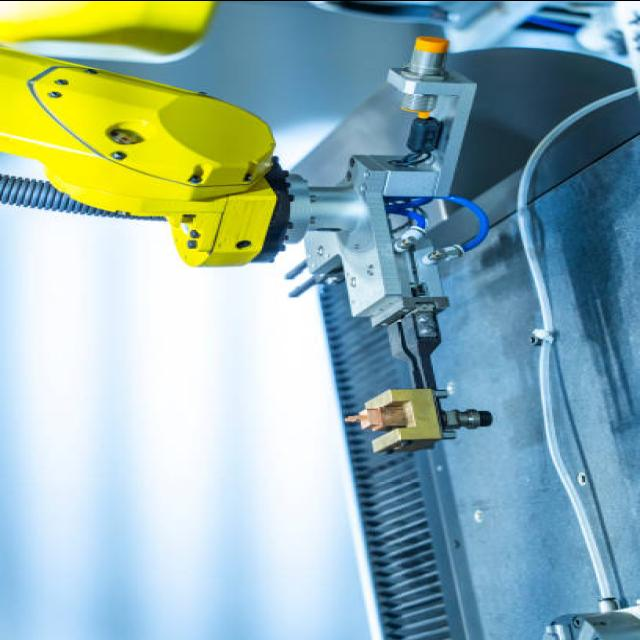Robotic-arm: (0, 0, 306, 272)
